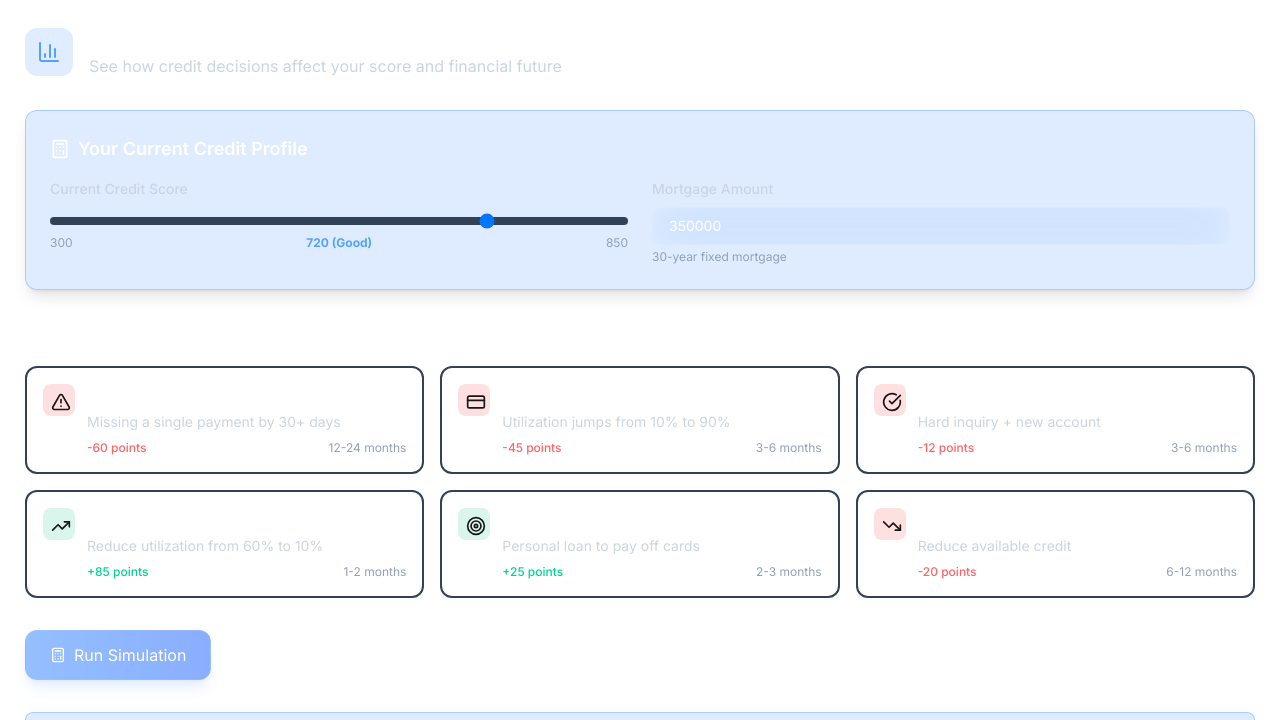
CreditScoreImpactSimulator › enables simulation button when scenarios are selected
Click the text "Late Payment (30 days)": x=225, y=420 [25,366,424,474]
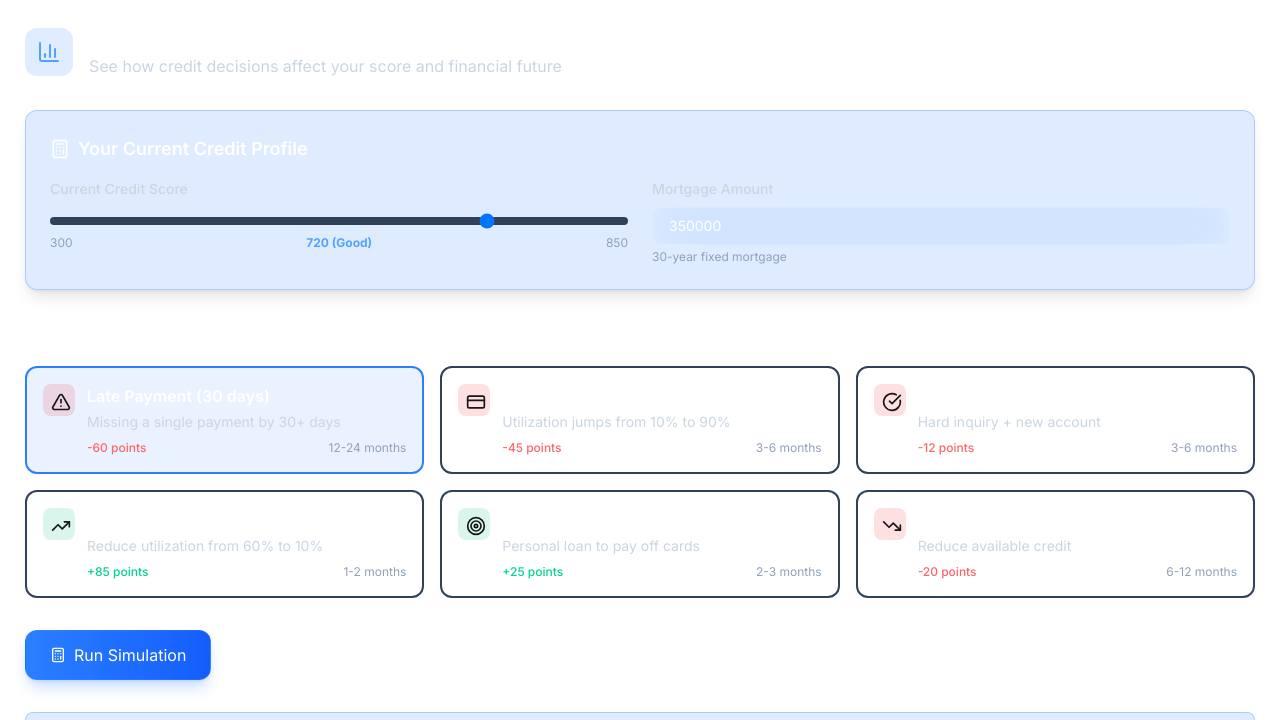
Expected: the button "Run Simulation" is enabled, [25,630,211,680]
